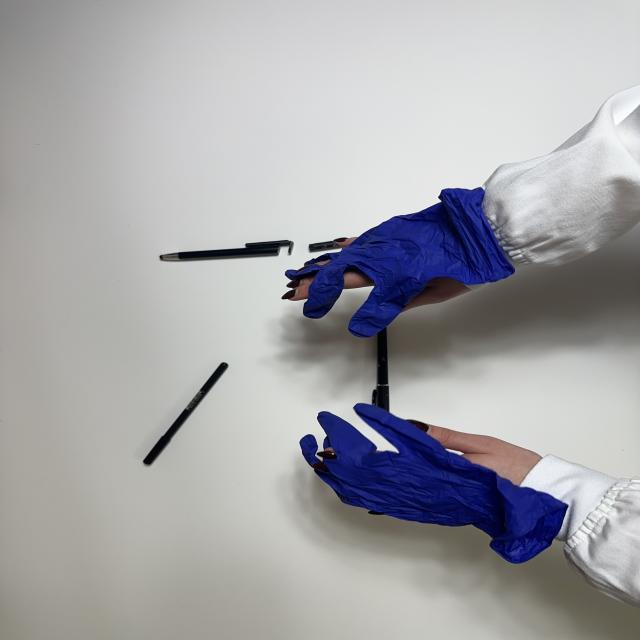glove_not_fitted: (298, 399, 574, 564), (280, 184, 520, 341)
